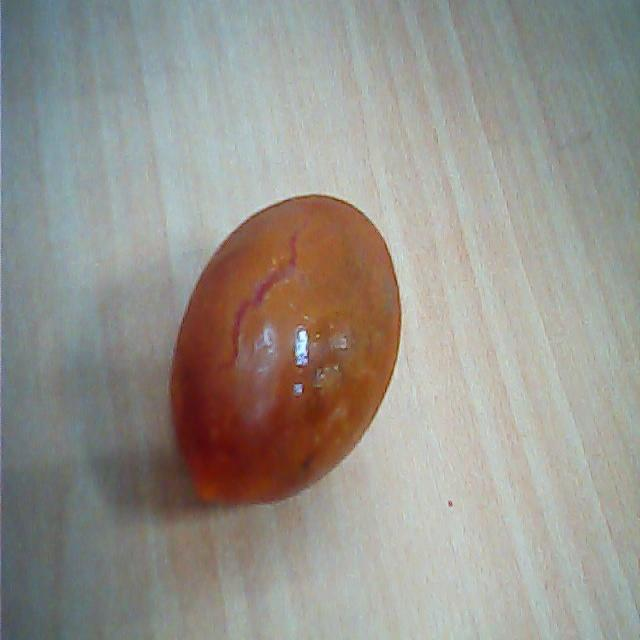defectuoso: (164, 189, 403, 514)
